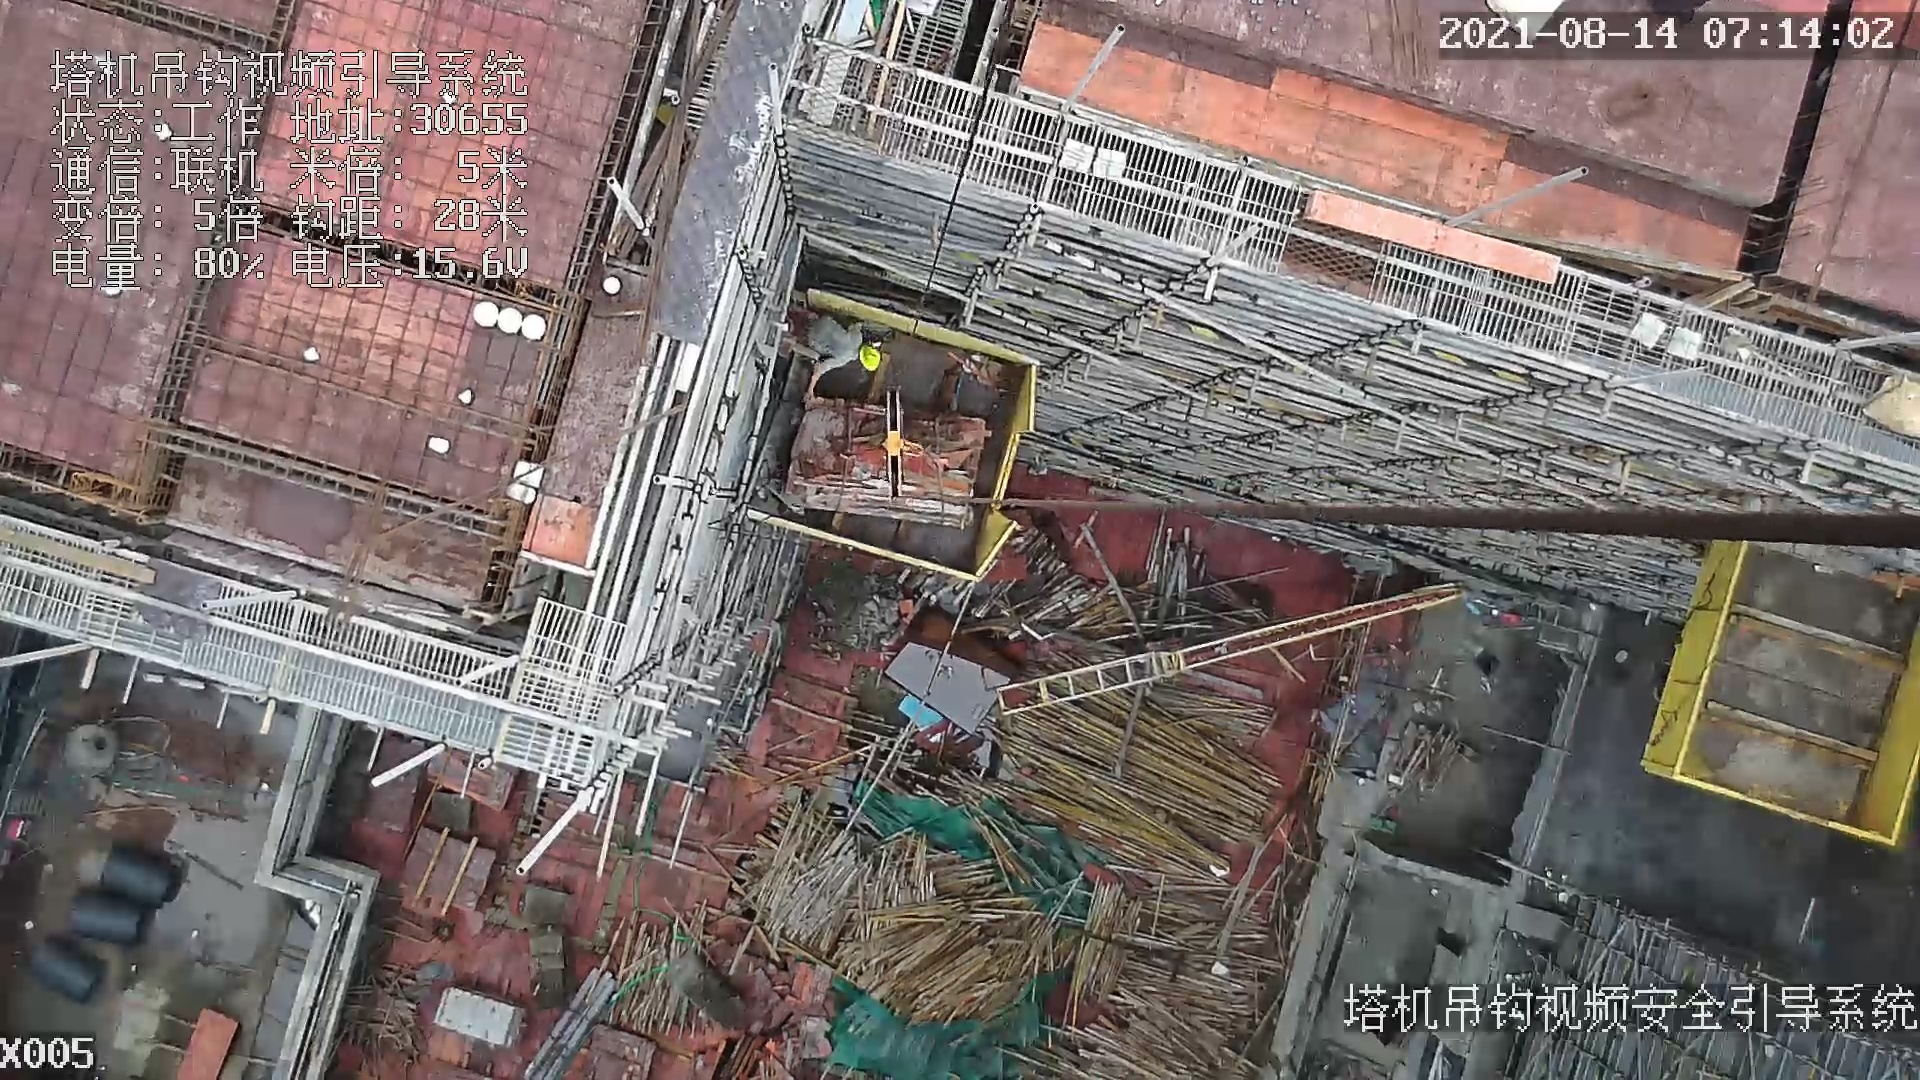helmet: (856, 342, 882, 369)
hook: (882, 382, 922, 506)
person: (797, 309, 881, 395)
